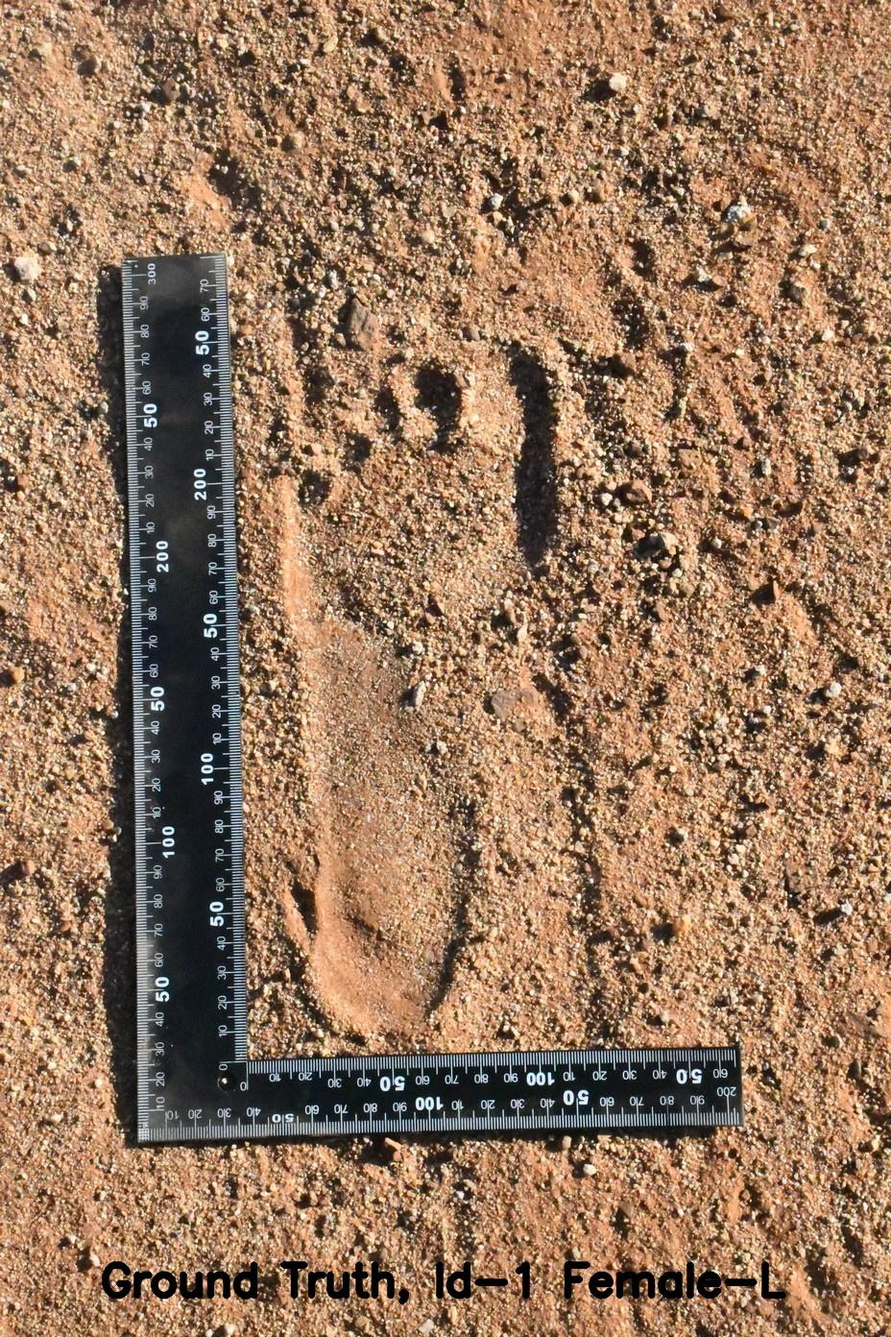human_footprint: (273, 282, 657, 1047)
